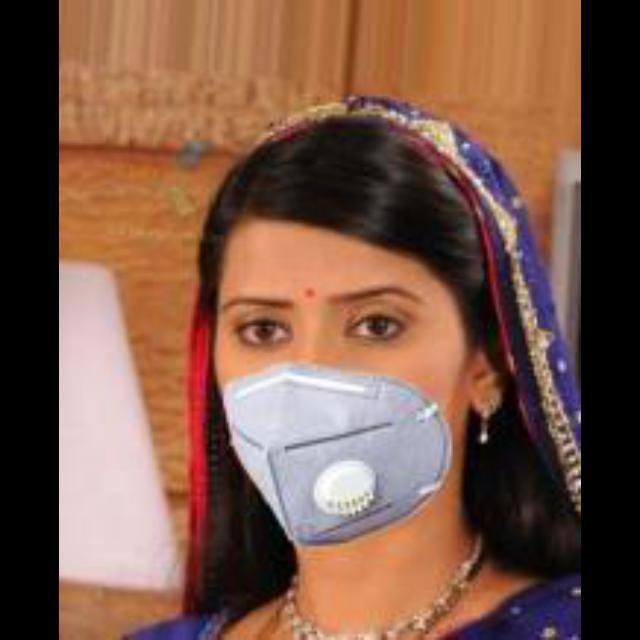suspicion: (196, 109, 498, 564)
